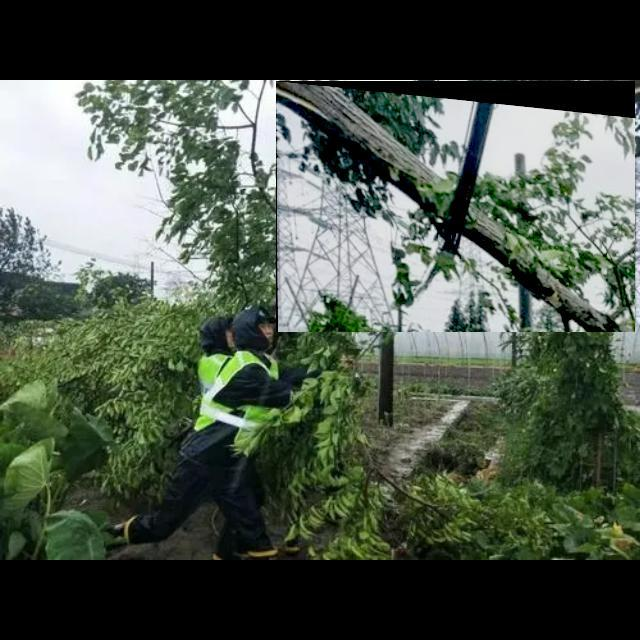fallen_tree: (276, 81, 636, 333)
